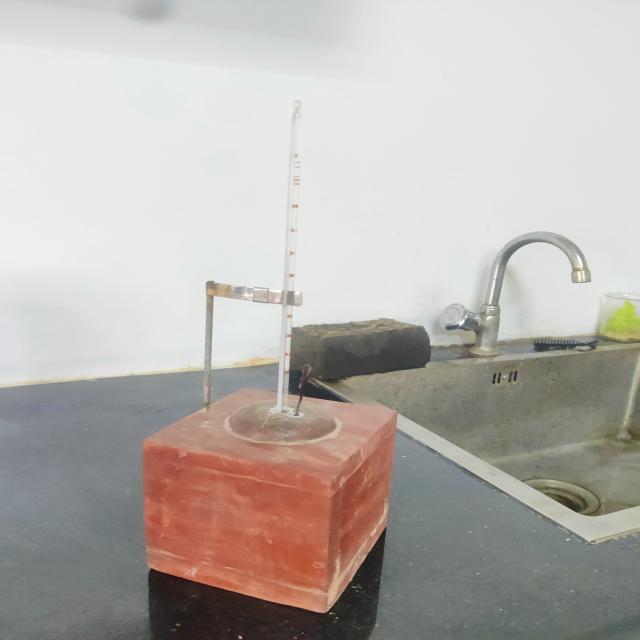Calorimeter: (99, 88, 462, 640)
